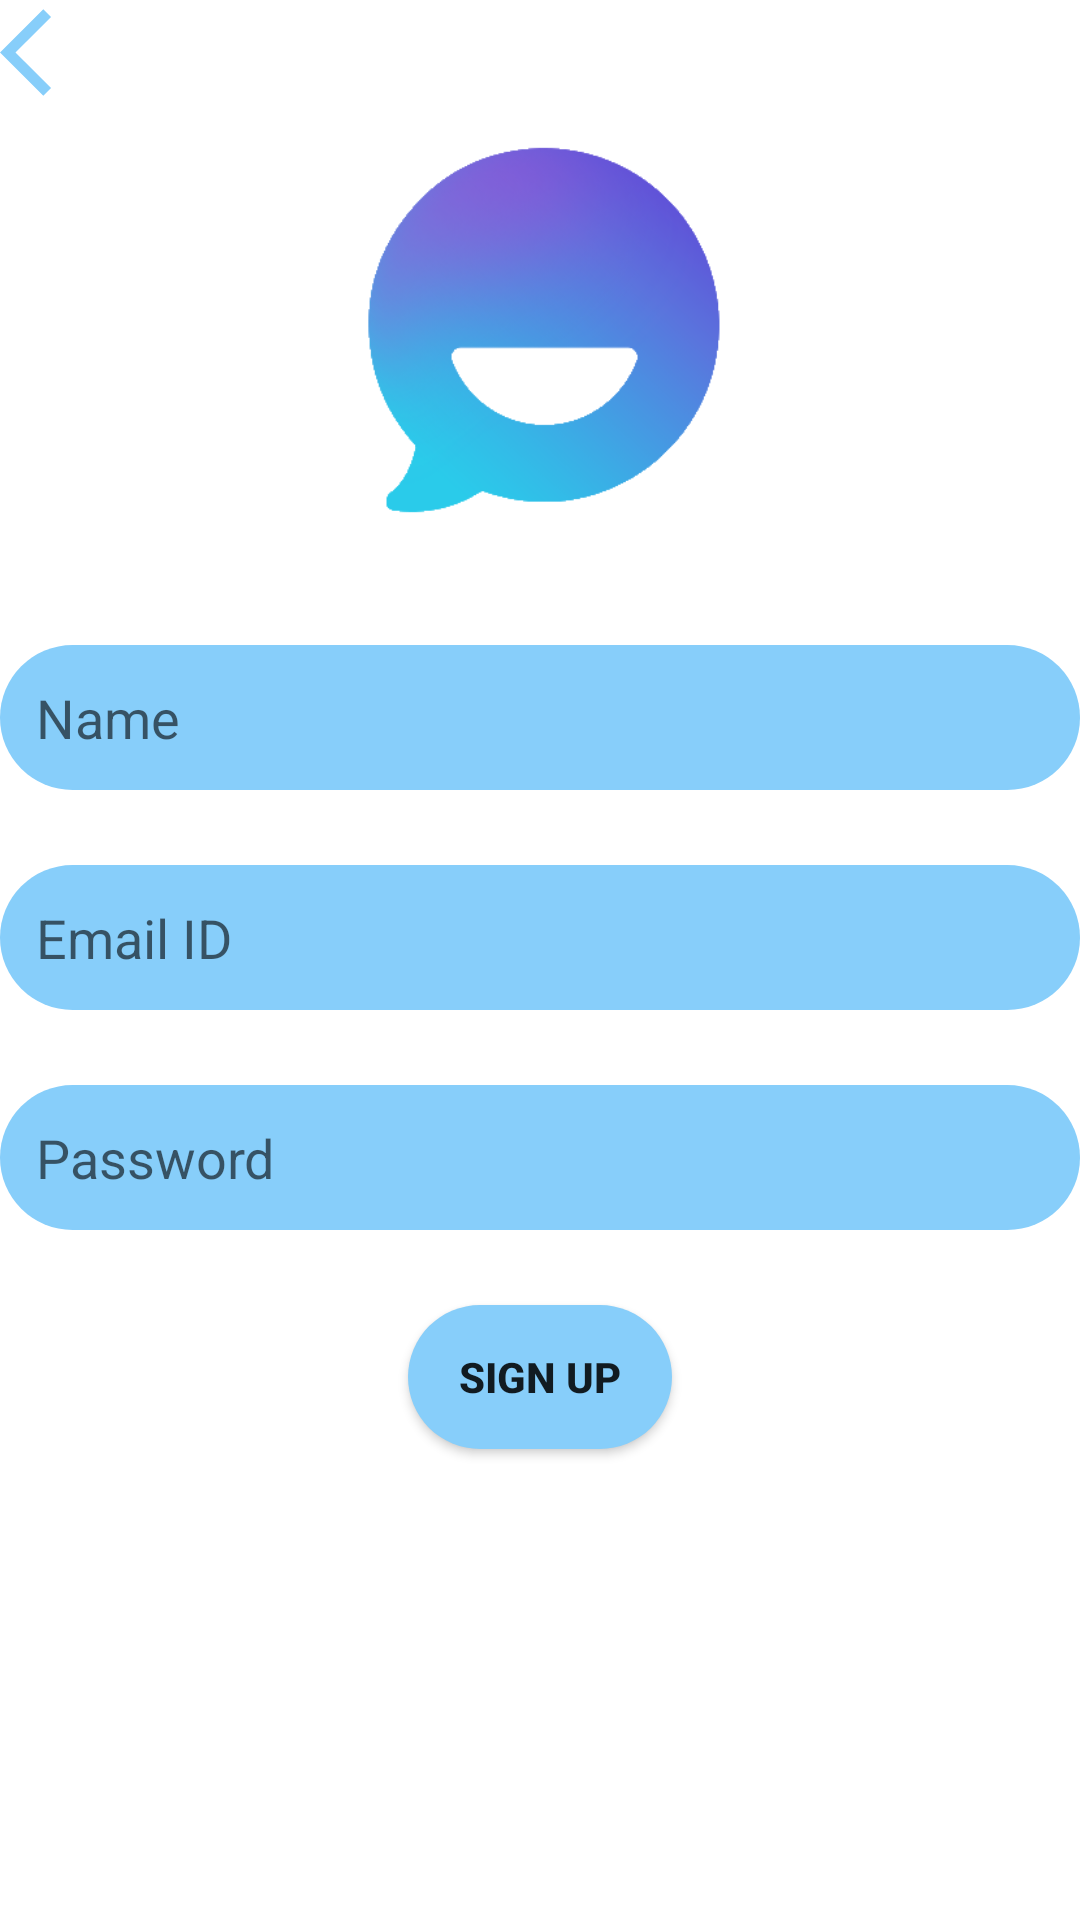

Point at icon controls on the screen. Image size 1080 × 1920, points as (x=x, y=y).
back apptheme: (x=25, y=52)
